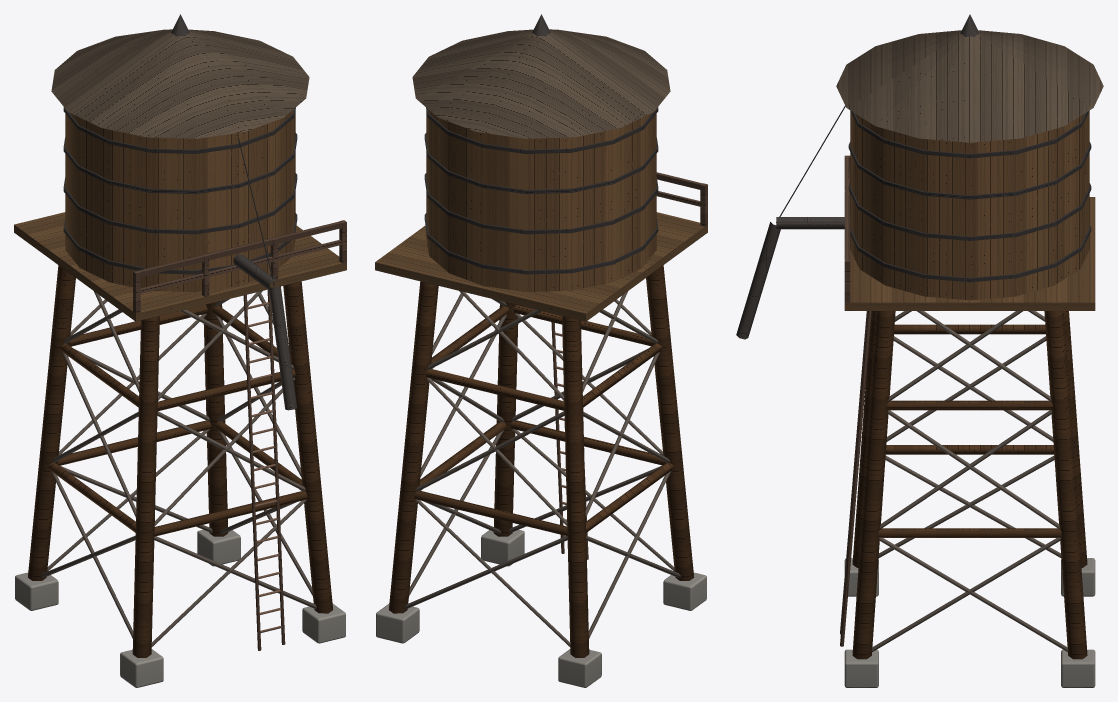
The model's file is torre_dagua_madeira.glb.
3 renders of one model, left to right at view 1: azimuth 30°, elevation 25°; view 2: azimuth 150°, elevation 25°; view 3: azimuth 270°, elevation 25°, orthographic. The views are drawn at different scales.
Parts seen in each view (by area): view 1: torre_dagua_madeira, torre_dagua_madeira_liso; view 2: torre_dagua_madeira, torre_dagua_madeira_liso; view 3: torre_dagua_madeira, torre_dagua_madeira_liso.
Boxes of the visible parts, x1,y1,x2,y2 form: torre_dagua_madeira: (14, 29, 346, 657); torre_dagua_madeira_liso: (15, 14, 345, 687); torre_dagua_madeira: (375, 29, 707, 657); torre_dagua_madeira_liso: (376, 14, 706, 687); torre_dagua_madeira: (736, 30, 1103, 659); torre_dagua_madeira_liso: (776, 14, 1095, 687).
Bounding box in the file's own units: 4.7 × 12.05 × 6.46.
3 materials, 2 textured.
